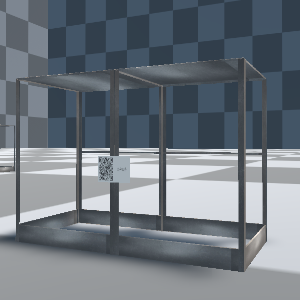Rack: (13, 55, 266, 273)
